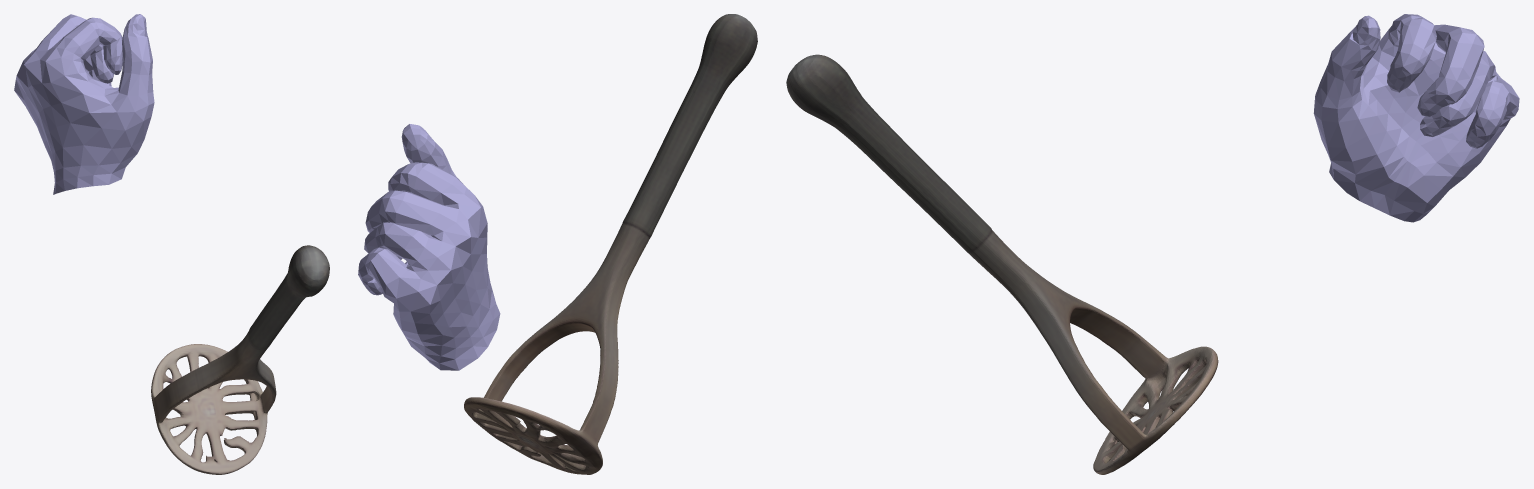
The model's file is frame_0066_source_000066_hand_object.glb.
3 renders of one model, left to right at view 1: azimuth 30°, elevation 25°; view 2: azimuth 150°, elevation 25°; view 3: azimuth 270°, elevation 25°, orthographic. The views are drawn at different scales.
Visible parts, largest first — view 1: world; view 2: world; view 3: world.
Part boxes in pixels (bbox=[...]): world: bbox=[14, 14, 329, 474]; world: bbox=[358, 14, 757, 474]; world: bbox=[786, 14, 1519, 474].
Bounding box in the file's own units: 0.0826 × 0.2495 × 0.3591.
